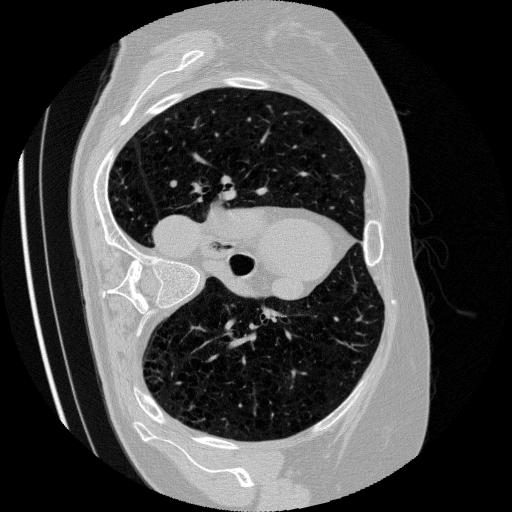nodule: (168, 179, 182, 193)
